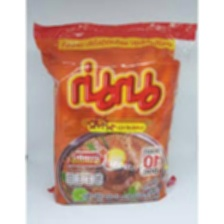snack: (26, 14, 198, 210)
